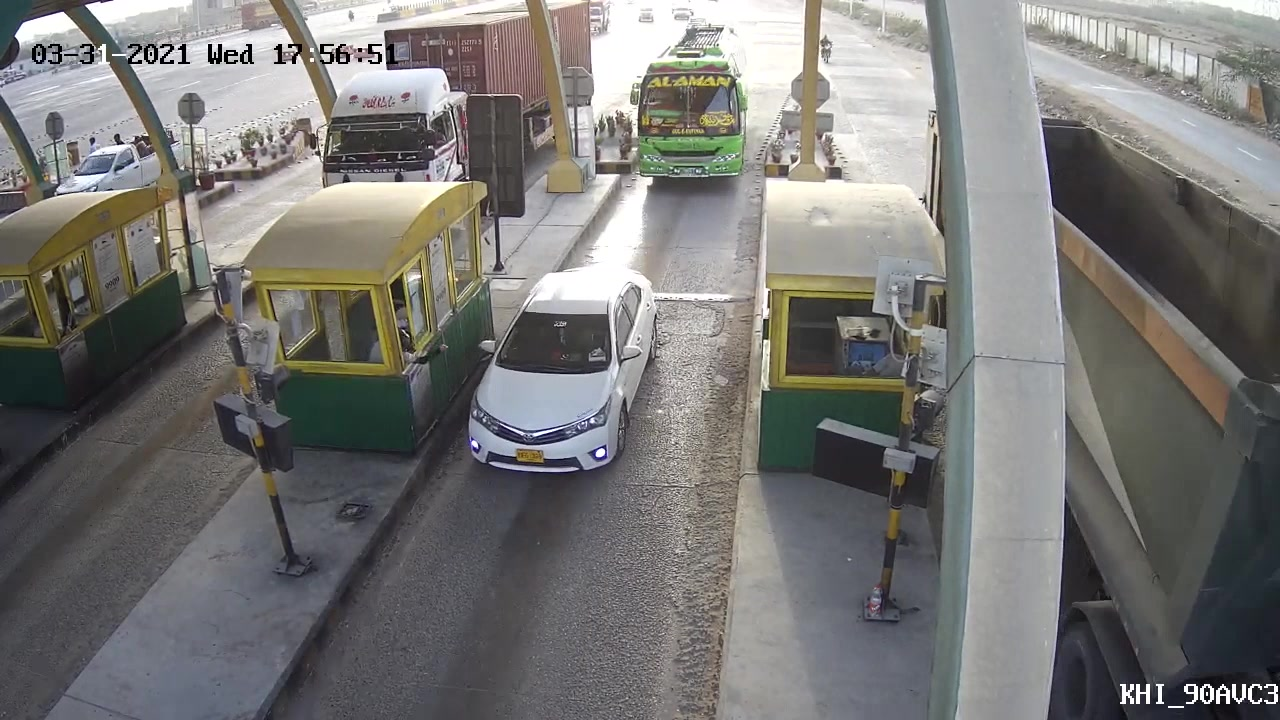F1: (452, 260, 671, 480)
F4: (630, 53, 751, 185)
